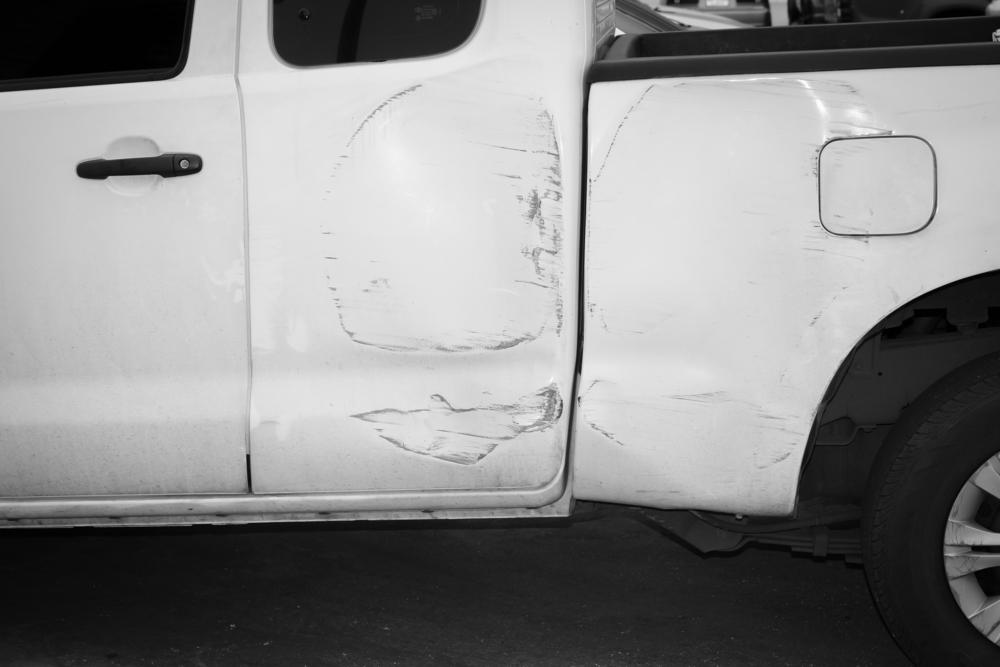scratch: (314, 66, 568, 360), (346, 379, 566, 468), (721, 76, 900, 173), (671, 386, 802, 473), (573, 376, 624, 447)
